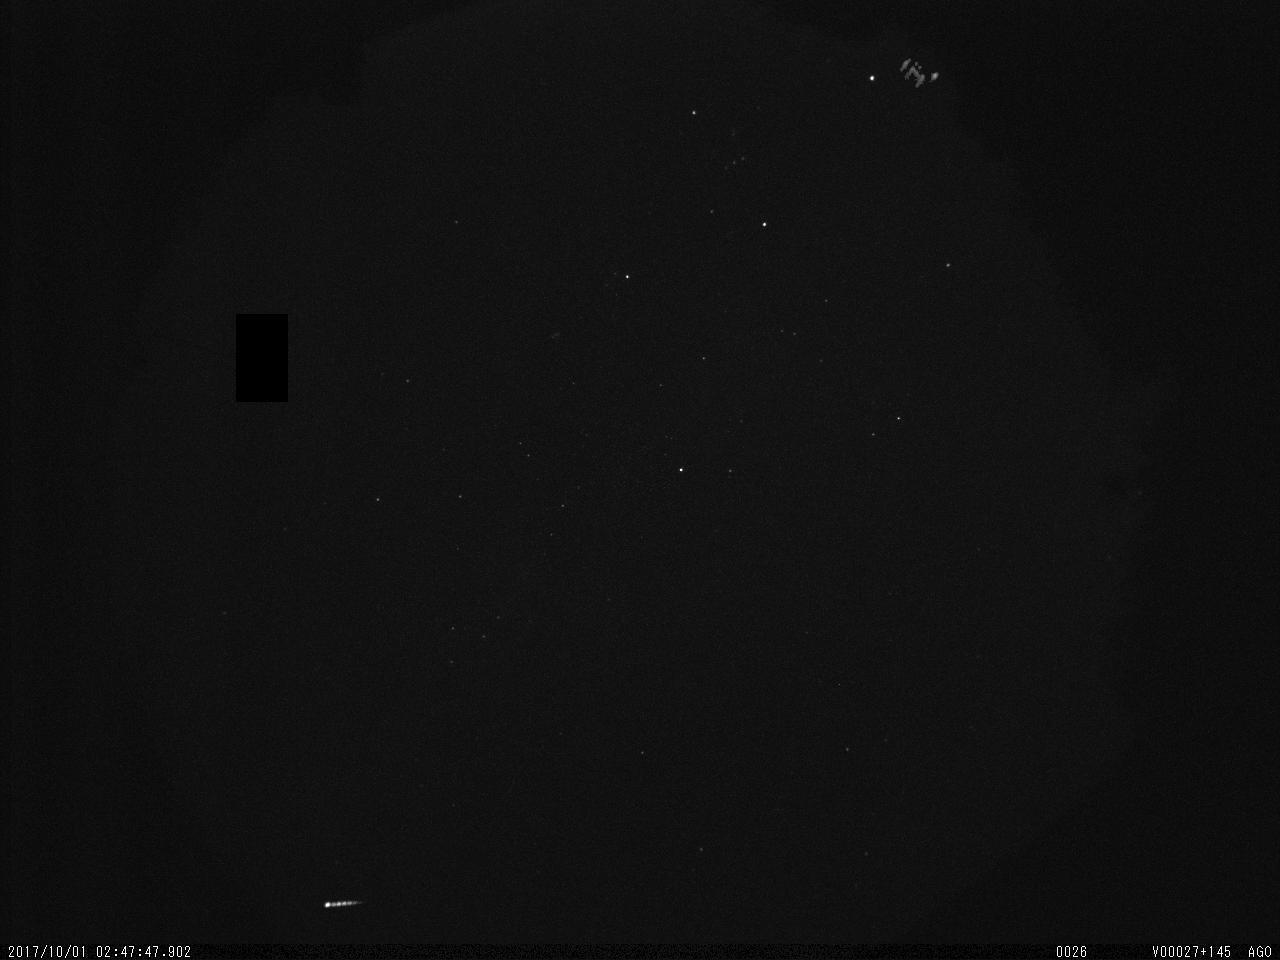TLE: (886, 48, 954, 104)
